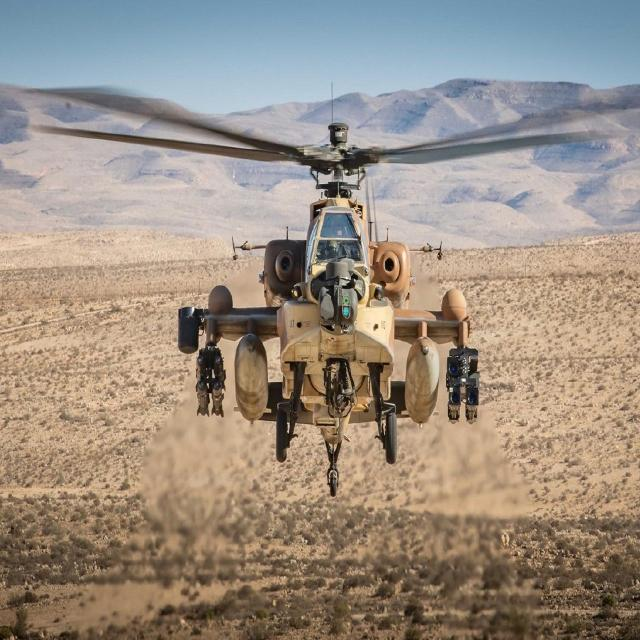MIL_HELO: (42, 68, 613, 500)
